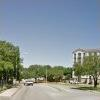Tree: (1, 37, 23, 85)
